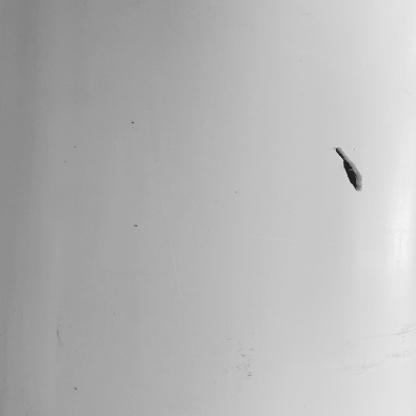kongdong: (333, 147, 366, 192)
